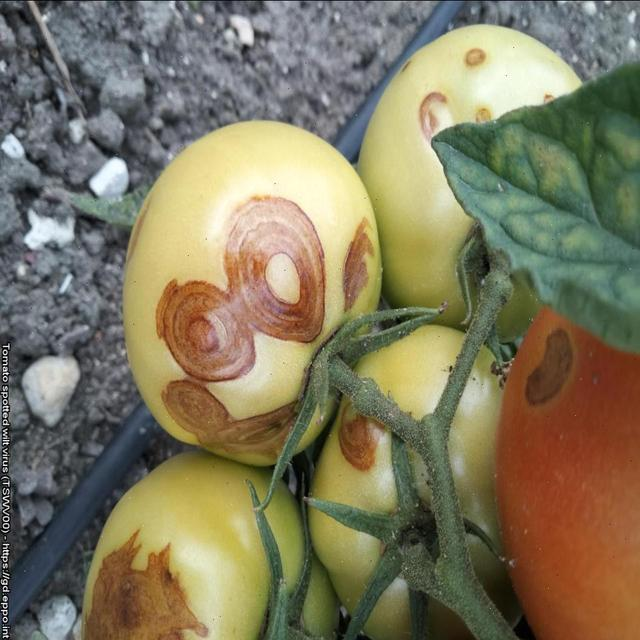Spotted wilt Virus Fruit: (129, 117, 319, 368)
